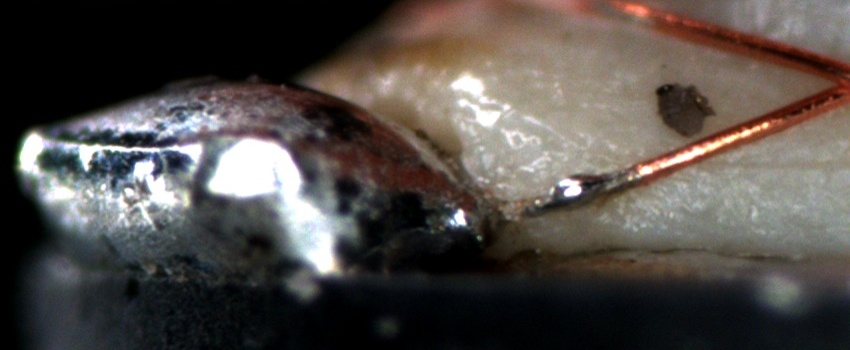CL: (804, 47, 849, 109)
DL: (723, 134, 850, 195)
TB: (546, 171, 611, 208)
TS: (526, 166, 638, 216)
TTCW: (491, 143, 683, 228)
